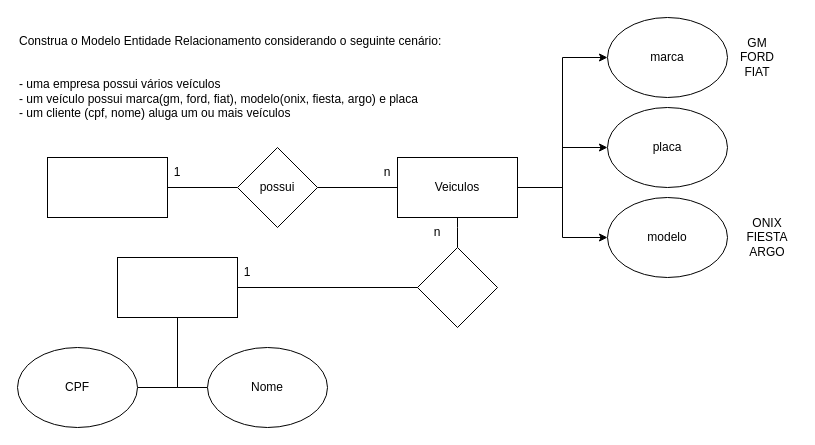
Some shapes in this 815 by 445 pixel diagram are drawn without their labels. Each missing label, with the centre of its shape:
aluga: (x=457, y=287)
Cliente: (x=177, y=287)
Empresa: (x=107, y=187)
